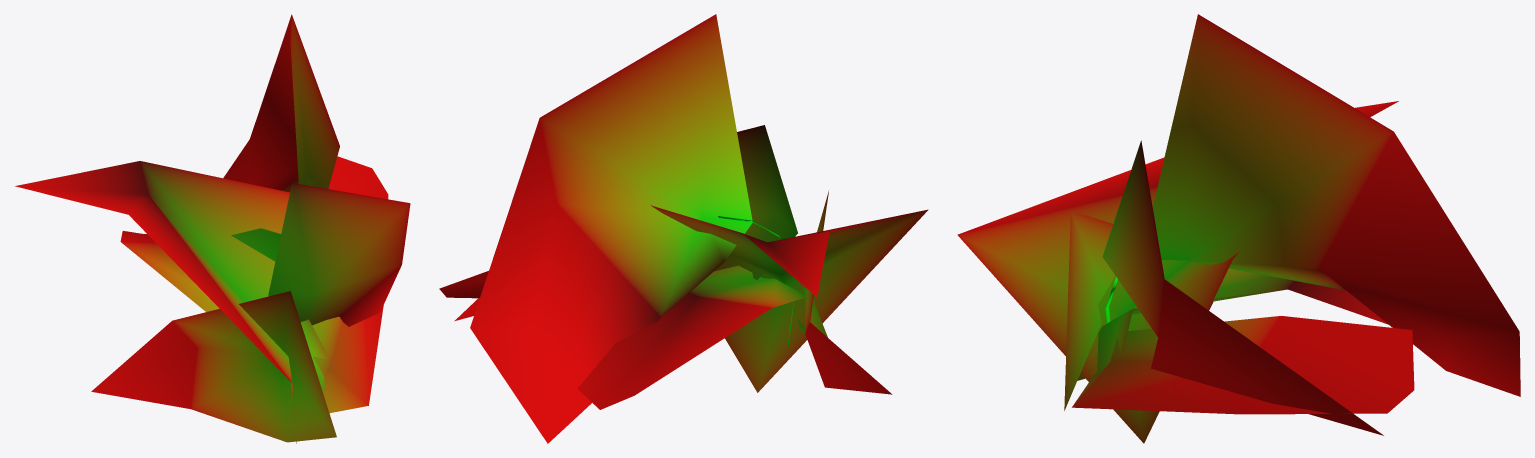
File: Var3_LOD1.fbx
3 renders of one model, left to right at view 1: azimuth 30°, elevation 25°; view 2: azimuth 150°, elevation 25°; view 3: azimuth 270°, elevation 25°, orthographic. The views are drawn at different scales.
Visible parts, largest first — view 1: Var3_LOD1; view 2: Var3_LOD1; view 3: Var3_LOD1.
Boxes of the visible parts, bbox=[...] form: Var3_LOD1: bbox=[15, 14, 410, 443]; Var3_LOD1: bbox=[439, 14, 928, 443]; Var3_LOD1: bbox=[957, 14, 1520, 443].
Size of the model in its own units: 95.34 by 95.14 by 111.
